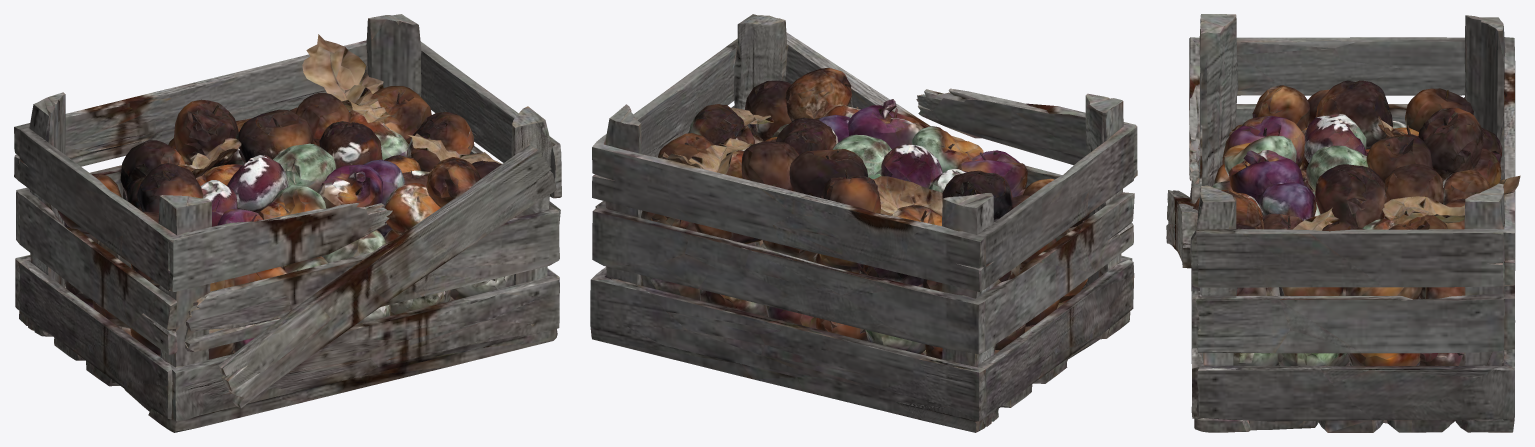
Rendered from hf_rottencrate.glb.
3 renders of one model, left to right at view 1: azimuth 30°, elevation 25°; view 2: azimuth 150°, elevation 25°; view 3: azimuth 270°, elevation 25°, orthographic. The views are drawn at different scales.
Bounding box in the file's own units: 1.9 × 1.03 × 1.45.
1 material, 1 textured.
